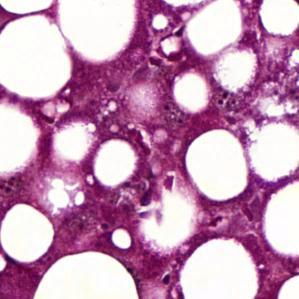steatosis: (183, 129, 252, 203), (1, 204, 55, 267), (93, 137, 137, 192)
